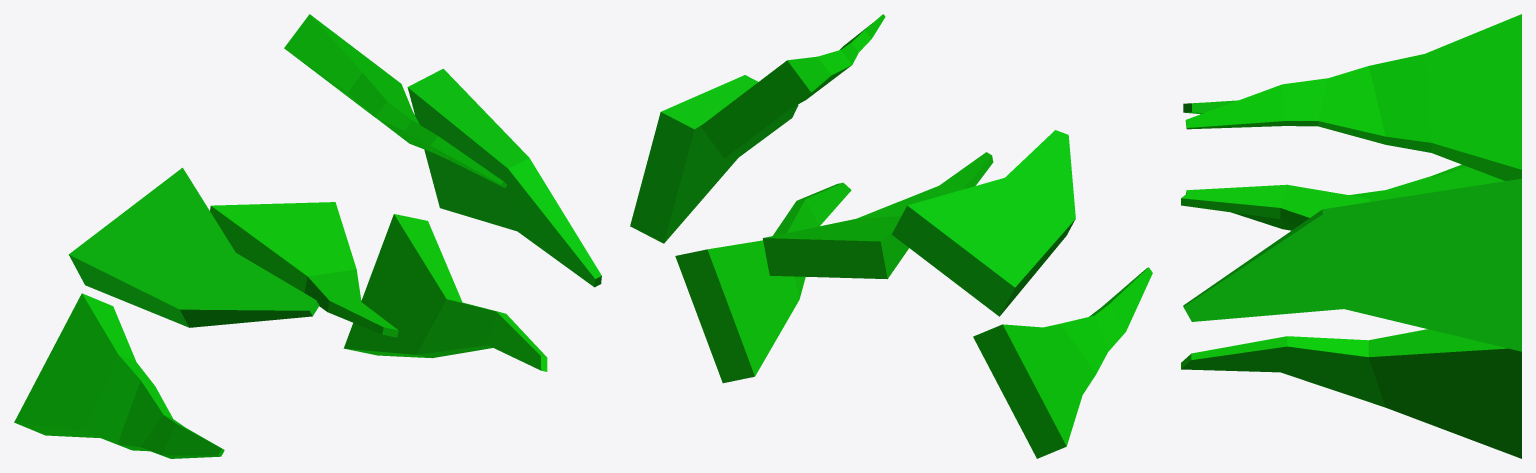
The model's file is bush.obj.
3 renders of one model, left to right at view 1: azimuth 30°, elevation 25°; view 2: azimuth 150°, elevation 25°; view 3: azimuth 270°, elevation 25°, orthographic. The views are drawn at different scales.
Visible parts, largest first — view 1: Bush_Material.036, Bush_Material.034, Bush_Material.027, Bush_Material.026, Bush_Material.035, Bush_Material.028; view 2: Bush_Material.036, Bush_Material.034, Bush_Material.026, Bush_Material.027, Bush_Material.035, Bush_Material.028; view 3: Bush_Material.027, Bush_Material.028, Bush_Material.026, Bush_Material.035, Bush_Material.034, Bush_Material.036.
Part boxes in pixels (box(x1,y1,x2,y2)): Bush_Material.036: box(68, 167, 319, 327); Bush_Material.034: box(14, 293, 224, 458); Bush_Material.027: box(407, 68, 601, 287); Bush_Material.026: box(343, 214, 547, 371); Bush_Material.035: box(210, 202, 398, 337); Bush_Material.028: box(284, 14, 507, 187); Bush_Material.036: box(892, 130, 1075, 316); Bush_Material.034: box(973, 267, 1152, 458); Bush_Material.026: box(675, 182, 851, 383); Bush_Material.027: box(630, 75, 798, 243); Bush_Material.035: box(762, 152, 993, 279); Bush_Material.028: box(700, 14, 885, 158); Bush_Material.027: box(1183, 178, 1521, 351); Bush_Material.028: box(1185, 14, 1521, 180); Bush_Material.026: box(1181, 329, 1521, 458); Bush_Material.035: box(1181, 167, 1504, 225); Bush_Material.034: box(1186, 164, 1467, 230); Bush_Material.036: box(1183, 100, 1237, 114).
Bounding box in the file's own units: 2.38 × 1.77 × 1.34.
